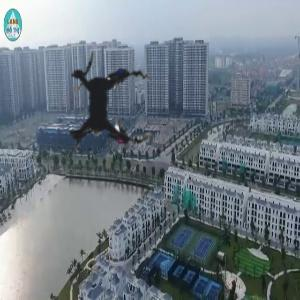drone: (9, 8, 198, 197)
